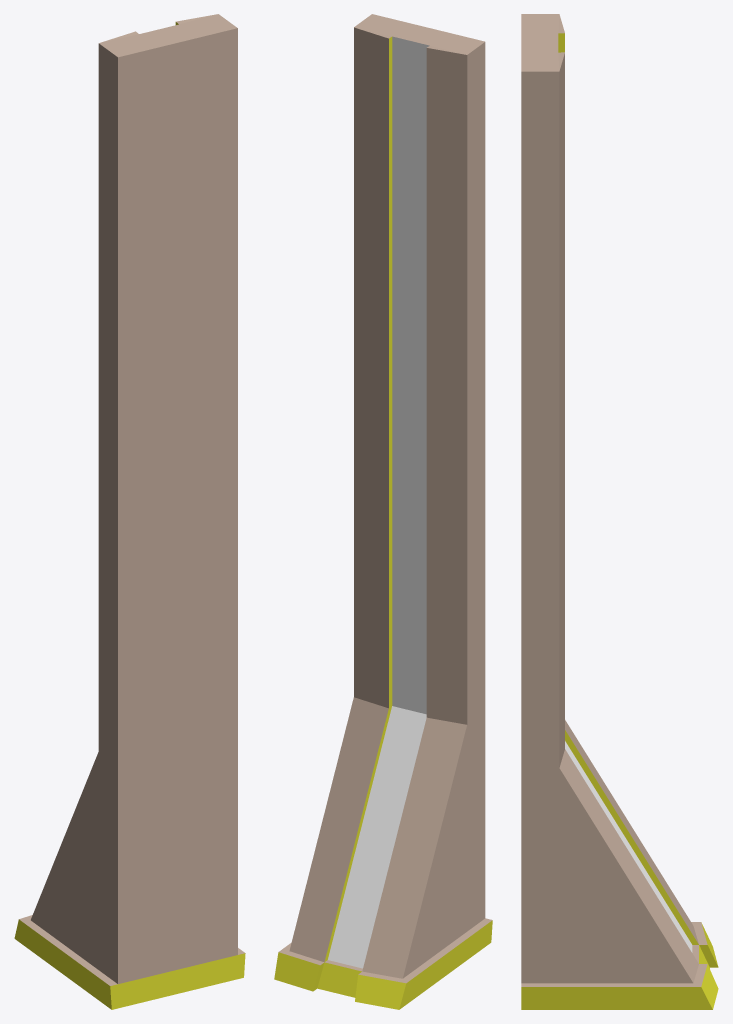
The model's file is market_anglepillar.fbx.
The picture shows the model from 3 angles, left to right: view 1: azimuth 30°, elevation 25°; view 2: azimuth 150°, elevation 25°; view 3: azimuth 270°, elevation 25°; orthographic projection. The views are drawn at different scales.
Parts seen in each view (by area): view 1: market_anglepillar.004; view 2: market_anglepillar.004; view 3: market_anglepillar.004.
Part boxes in pixels (x1,y1,x2,y2): market_anglepillar.004: [14, 14, 245, 1009]; market_anglepillar.004: [274, 14, 492, 1009]; market_anglepillar.004: [521, 14, 718, 1009].
Bounding box in the file's own units: 26.68 × 34.24 × 179.
